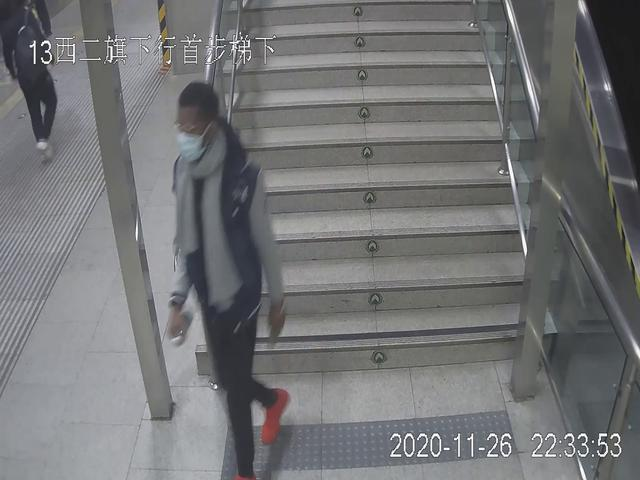person: (161, 79, 291, 480), (1, 1, 66, 168)
